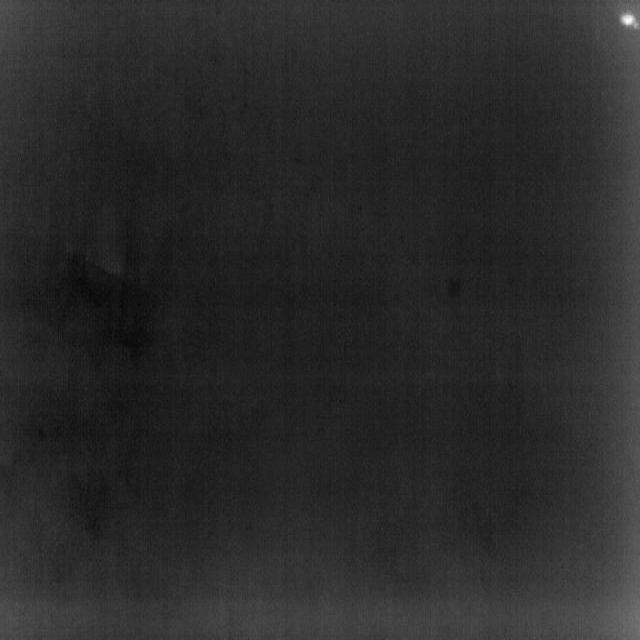deer: (620, 12, 640, 28)
